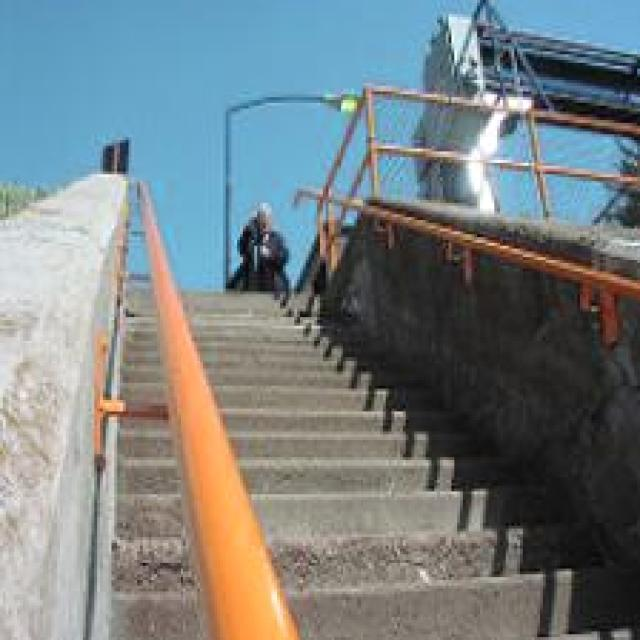upstair: (124, 270, 529, 621)
